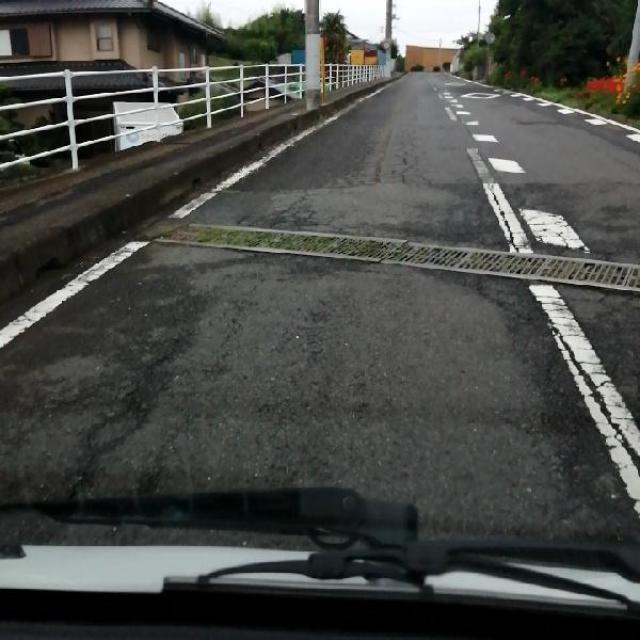Crack: (110, 266, 627, 521), (296, 82, 453, 214)
